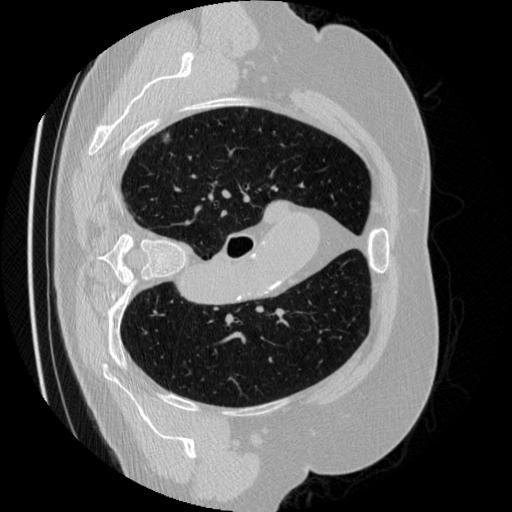nodule: (160, 131, 173, 144)
